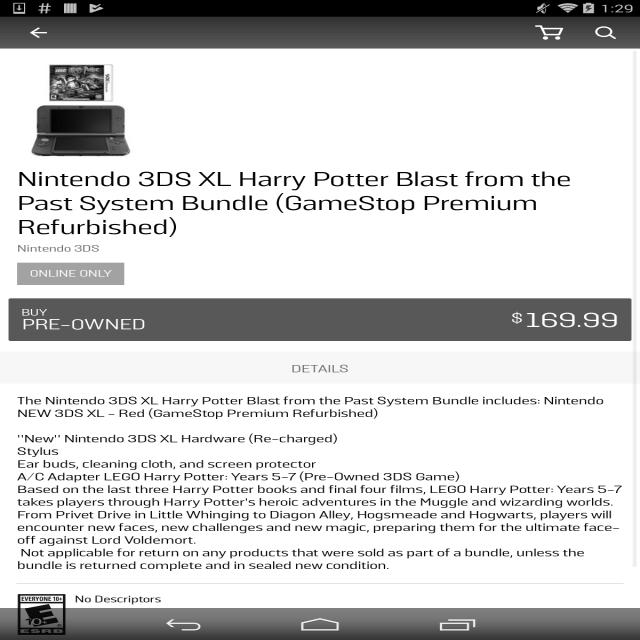Button: (10, 259, 129, 288)
ImageButton: (530, 21, 575, 43), (592, 22, 621, 42), (23, 24, 55, 42)
ImageView: (22, 61, 139, 159)
TextView: (12, 454, 626, 568), (9, 167, 580, 213), (8, 393, 608, 417), (504, 304, 623, 332), (13, 307, 149, 331), (14, 218, 184, 236), (286, 357, 356, 377), (15, 239, 104, 254)
